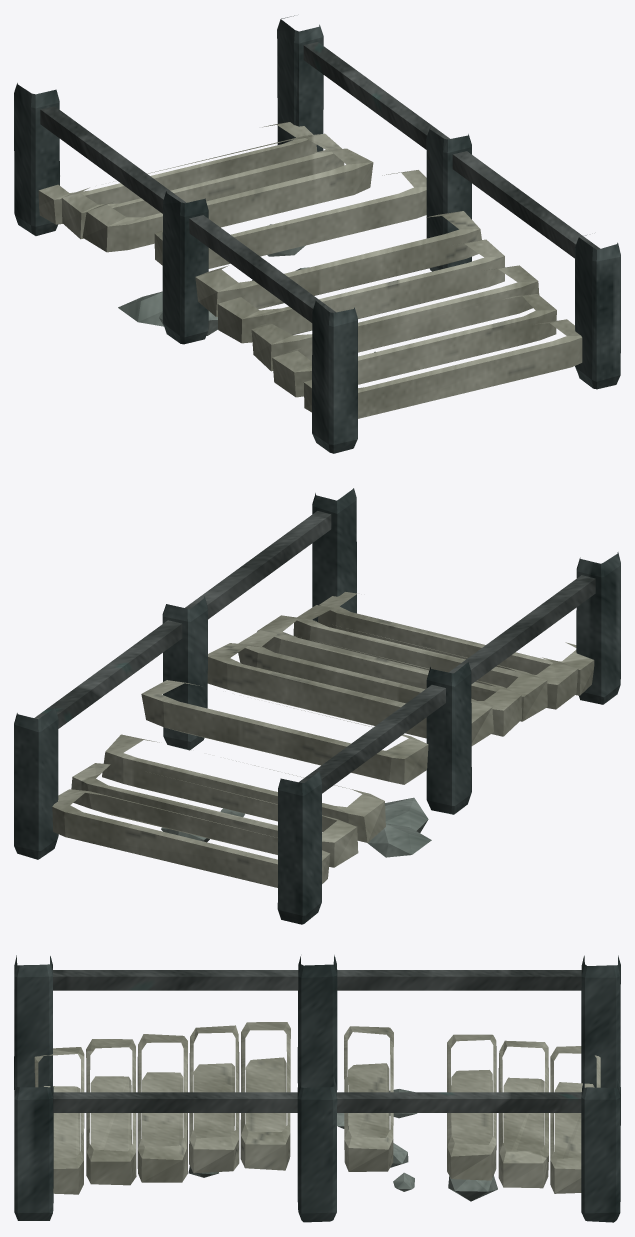
Rendered from 0396_ruined_bridge_21.glb.
3 renders of one model, top to bottom at view 1: azimuth 30°, elevation 25°; view 2: azimuth 150°, elevation 25°; view 3: azimuth 270°, elevation 25°, orthographic. The views are drawn at different scales.
Parts seen in each view (by area): view 1: stone_light, stone_dark, iron, stone; view 2: stone_light, stone_dark, iron, stone; view 3: stone_light, stone_dark, iron, stone.
Boxes of the visible parts, x1,y1,x2,y2 form: stone_light: (38, 122, 582, 418); stone_dark: (14, 15, 620, 453); iron: (40, 42, 600, 322); stone: (118, 224, 375, 352); stone_light: (52, 592, 594, 887); stone_dark: (14, 488, 620, 924); iron: (34, 511, 595, 793); stone: (161, 797, 431, 857); stone_light: (34, 1022, 600, 1194); stone_dark: (14, 955, 620, 1222); iron: (53, 970, 581, 1112); stone: (188, 1089, 497, 1201).
Size of the model in its own units: 2.07 by 1.11 by 3.9.
4 materials, 4 textured.
